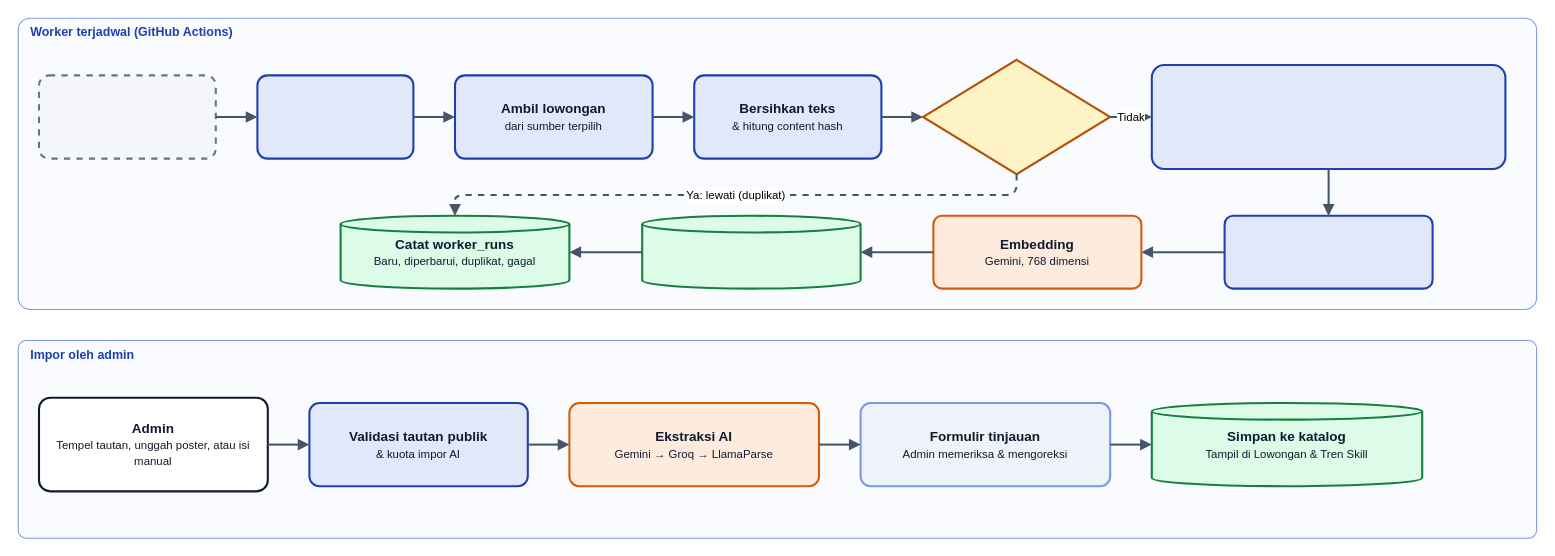
The diagram is 1555 pixels wide and 556 high, and some of its shapes have lost their labels. The shapes that lost their labels are listed below. From the top down, each one's centre as x and y in pixels, then its label:
At (x=126, y=116): "Pemicu Cron 02.00 UTC atau manual".
At (x=335, y=116): "Uji otomatis pytest".
At (x=1016, y=116): "Sudah ada & tidak berubah?".
At (x=1328, y=116): "Ekstraksi rule-based Judul baku, level, skill, pengalaman, pendidikan, IPK".
At (x=751, y=251): "Upsert jobs & job_skills".
At (x=1328, y=251): "Normalisasi skill Taksonomi & alias".
